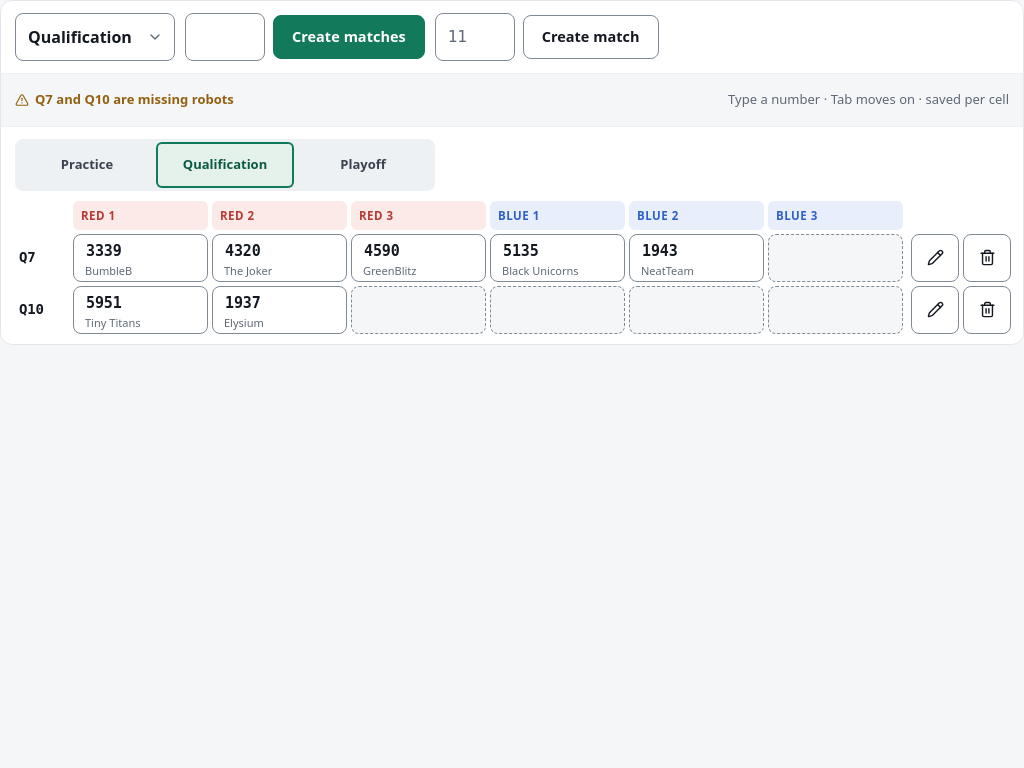
Test: MatchesPanel › a save the server cannot be reached for › deleting a "Not saved" match drops its mark, the line and Try again
The image size is (1024, 768).
Type "6230" into the 9th dropdown named "Q10 Red 3" at (418, 310), box [351,286,486,334]
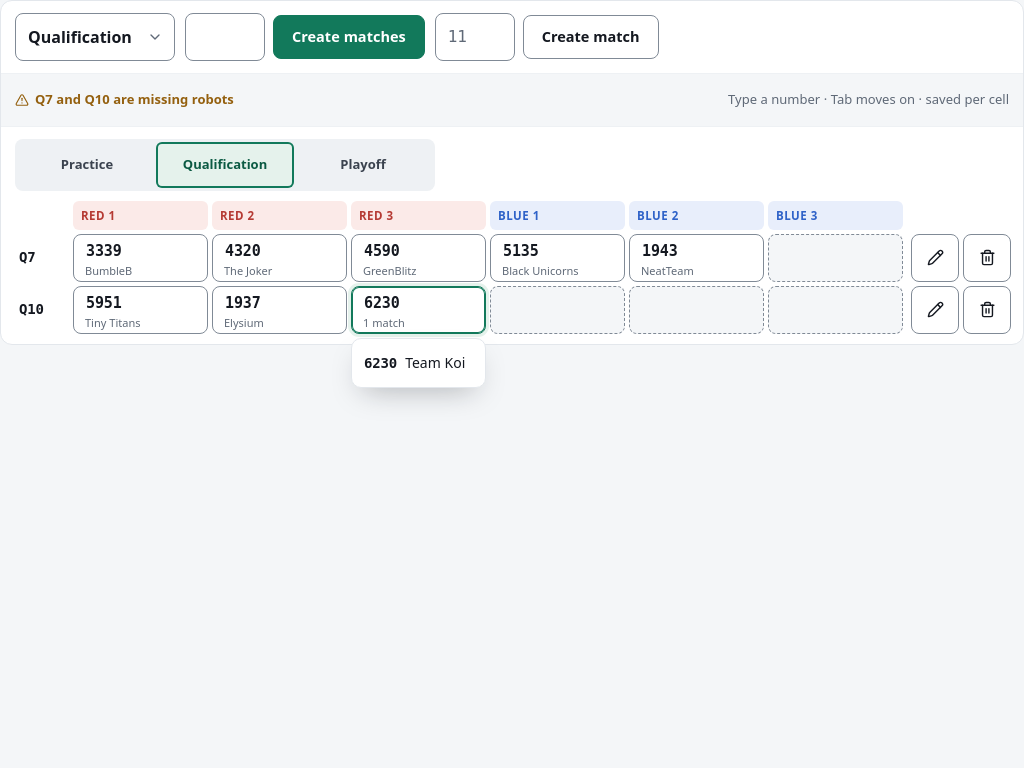
Press Tab
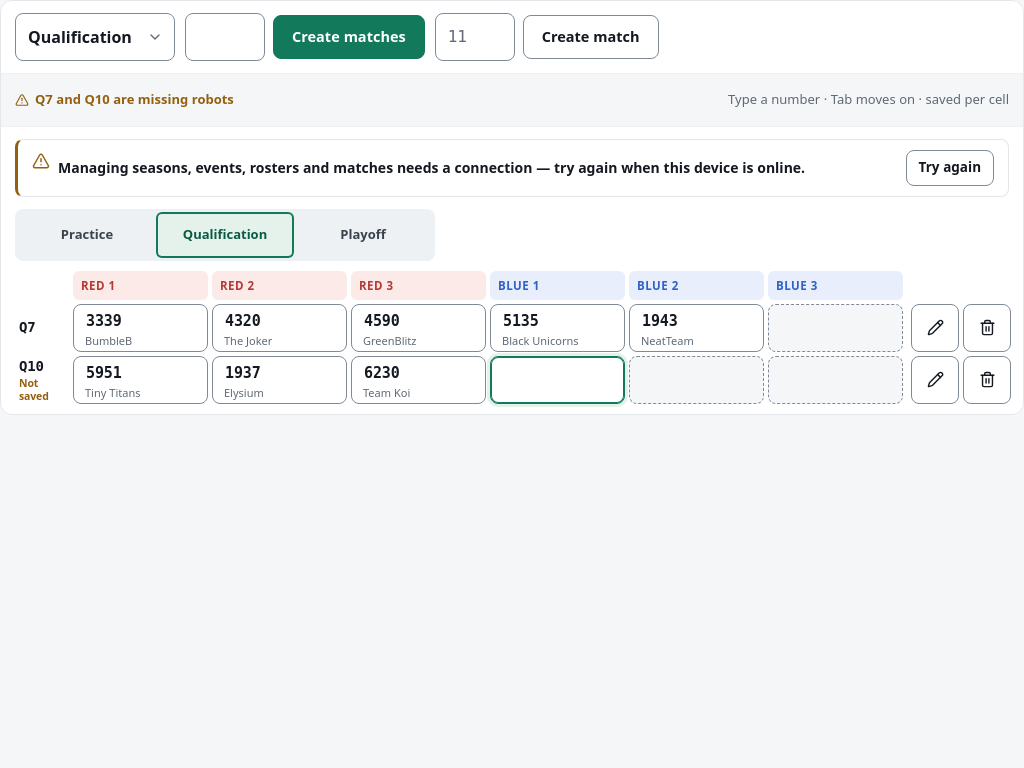
expect the element "Q10" is marked as invalid: met, box [13,356,1011,404]
Click the button named "Delete match 10 (qualification)" at (987, 380), box [963,356,1011,404]
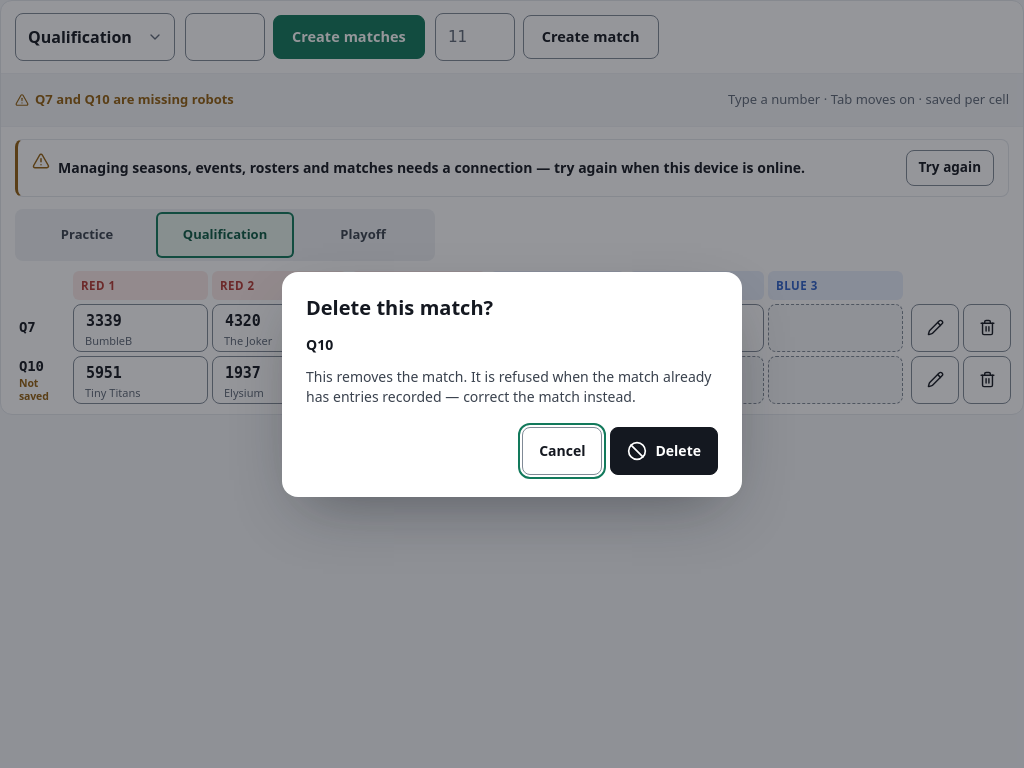
Click the button "Delete" at (664, 450), box [610,426,718,474]
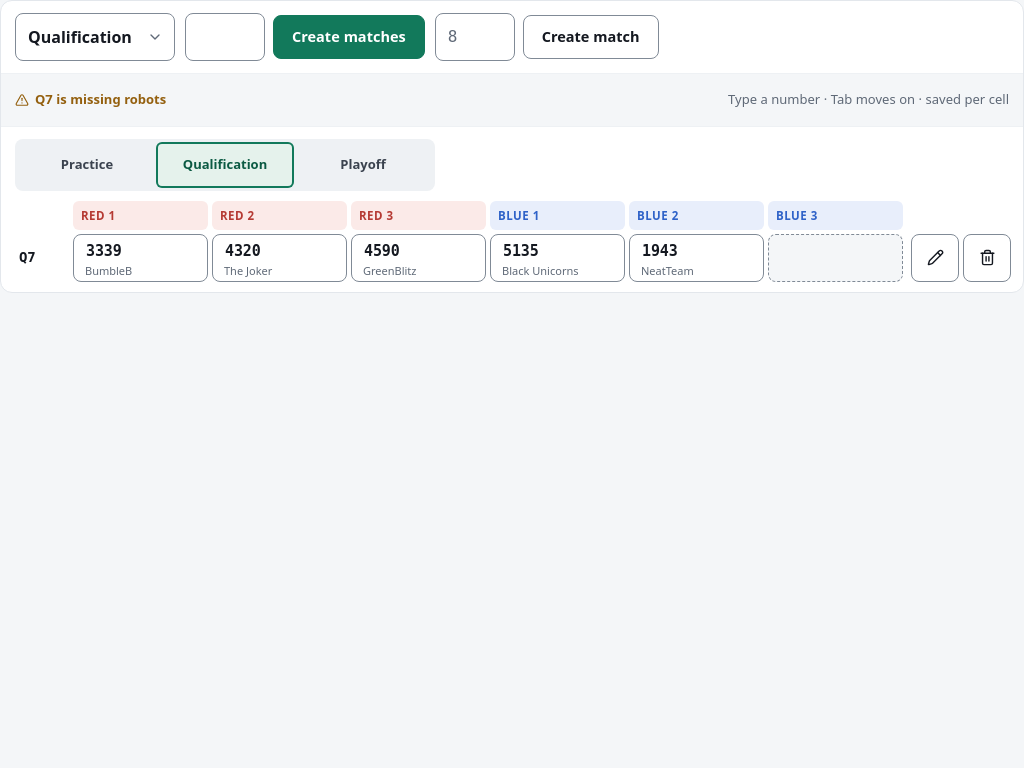
expect the text "Managing seasons, events, rosters and matches needs a connection — try again when this device is online." is gone: met
expect the text "try again" is gone: met
